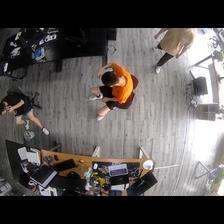normal: (87, 61, 136, 125), (1, 90, 52, 137)
